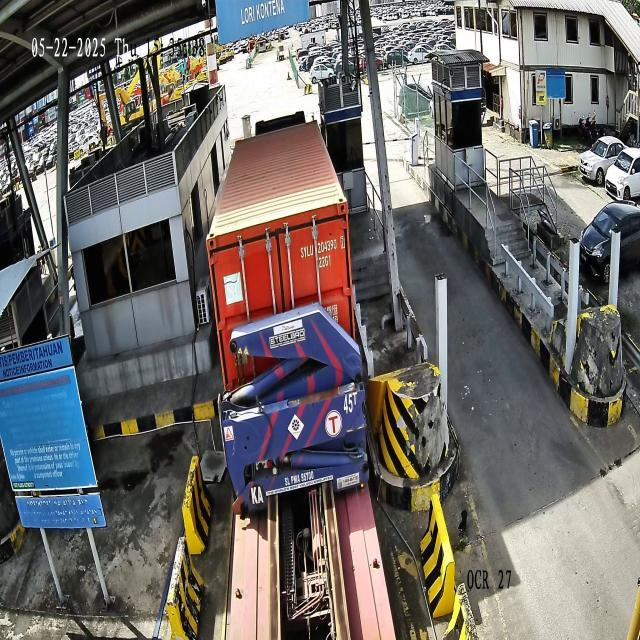ISO: (318, 253, 332, 270)
container_number: (300, 234, 345, 260)
